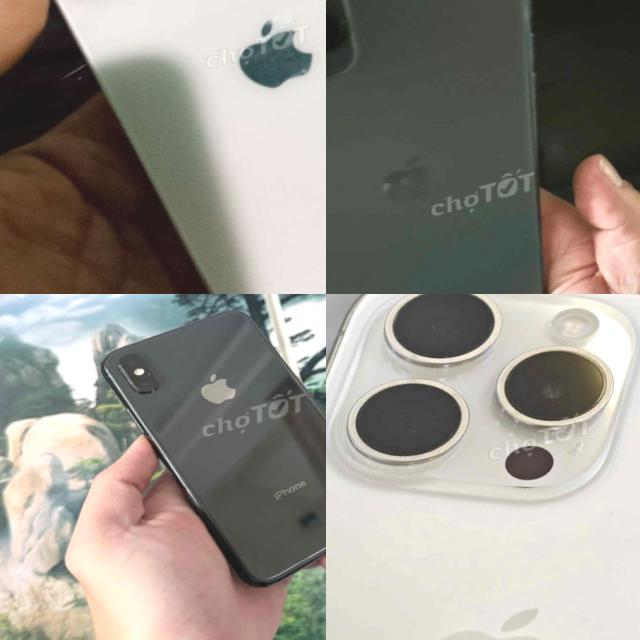gen_11: (326, 0, 640, 294)
gen_12_13: (3, 0, 326, 294)
gen_15: (326, 294, 640, 640)
gen_x_xs: (101, 310, 326, 585)
scratch: (138, 364, 159, 382), (224, 430, 244, 444)
